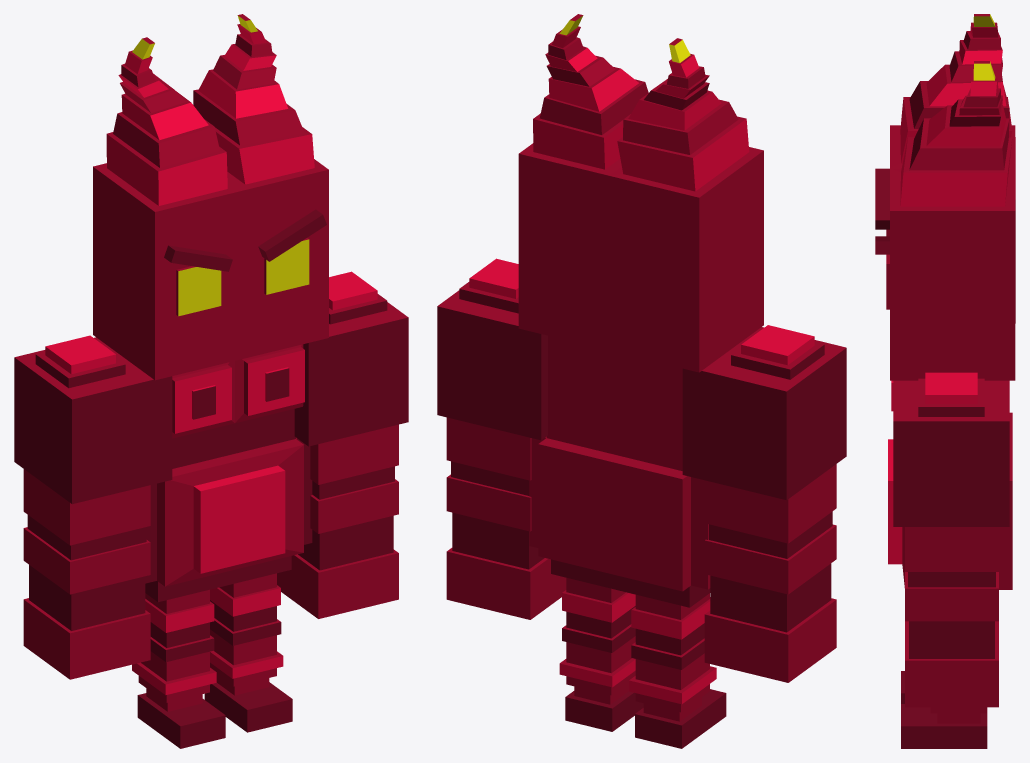
Rendered from Skorn.fbx.
The picture shows the model from 3 angles, left to right: view 1: azimuth 30°, elevation 25°; view 2: azimuth 150°, elevation 25°; view 3: azimuth 270°, elevation 25°; orthographic projection. The views are drawn at different scales.
Visible parts, largest first — view 1: Cube; view 2: Cube; view 3: Cube.
Boxes of the visible parts, left/top/right/bottom form: Cube: left=14, top=14, right=408, bottom=748; Cube: left=437, top=14, right=846, bottom=748; Cube: left=875, top=14, right=1015, bottom=748.
Size of the model in its own units: 372 by 715 by 133.
